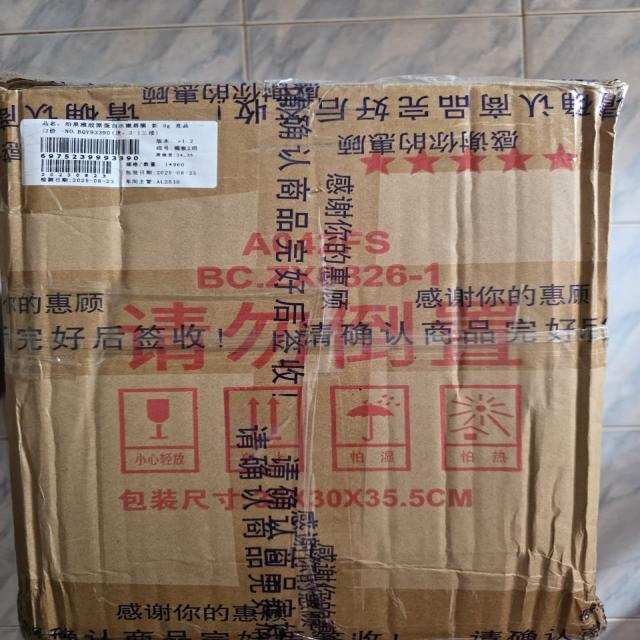carton_box: (0, 71, 618, 640)
export_mark_label: (13, 111, 247, 204)
fragile_label: (101, 379, 210, 483)
keep_dry_label: (323, 373, 423, 481)
protect_from_heat_label: (434, 378, 534, 488)
this_side_up_label: (223, 378, 315, 484)
